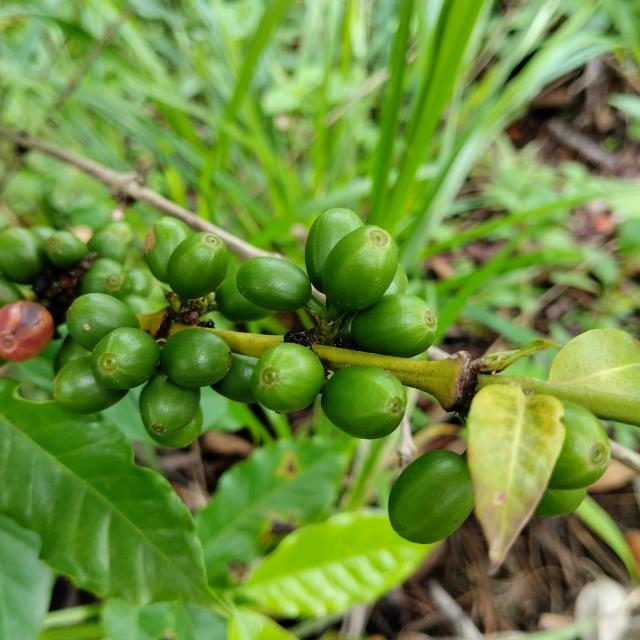green: (389, 450, 474, 545), (322, 225, 398, 312), (321, 366, 407, 440), (549, 401, 612, 491), (352, 293, 438, 358), (251, 343, 324, 413), (305, 208, 364, 292), (52, 356, 127, 414), (90, 328, 160, 390), (65, 293, 139, 351), (166, 232, 228, 300), (160, 329, 231, 388), (236, 256, 311, 311), (139, 370, 200, 436), (143, 216, 191, 283), (215, 274, 273, 323), (0, 227, 43, 284), (211, 353, 258, 404), (150, 408, 202, 449), (79, 258, 124, 299)
red: (0, 300, 53, 362)
